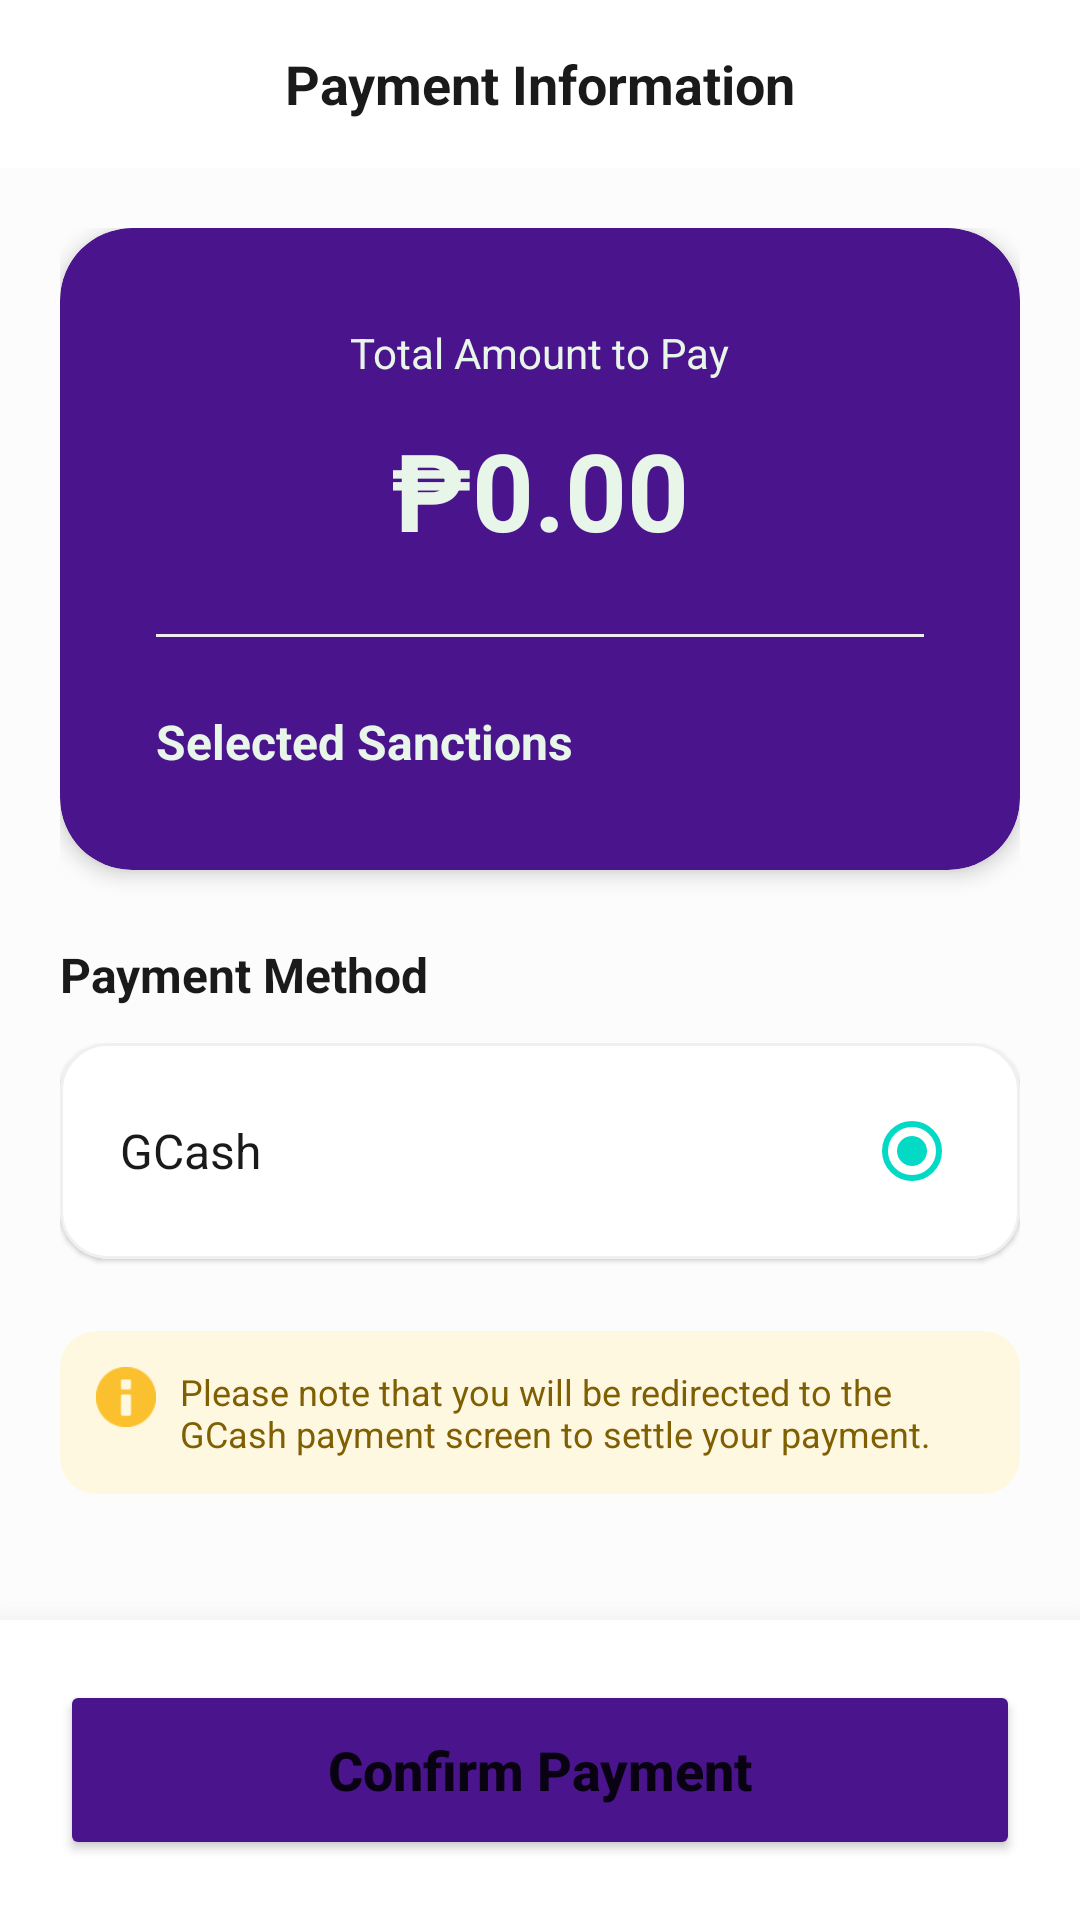

Icons on this 1080w x 1920h Android screen, each with its box as (x1, y1, x2, y2):
info: (96, 1367, 156, 1427)
